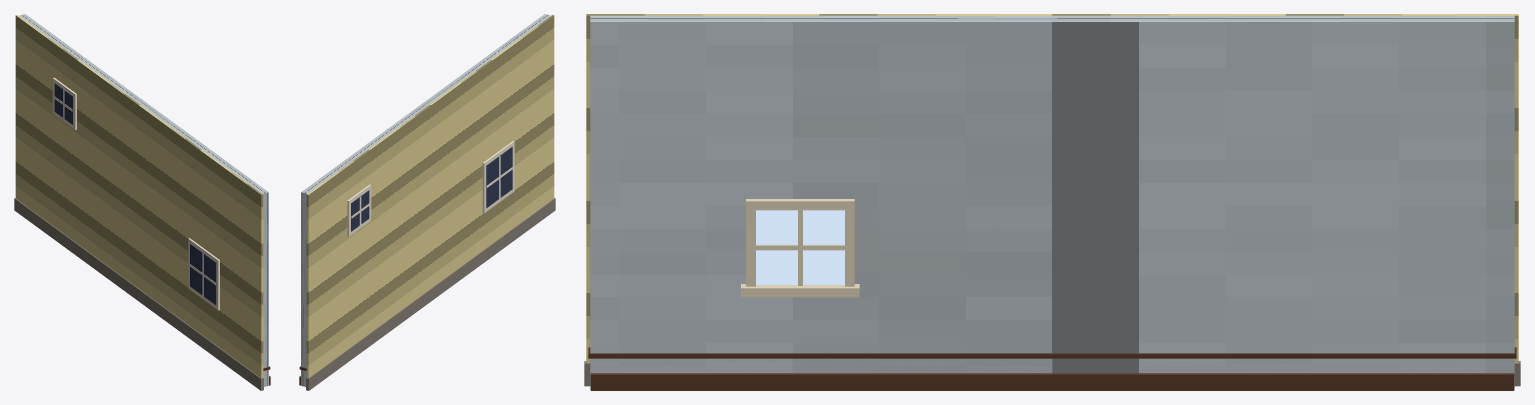
Rendered from right.glb.
3 views of the same model, side by side, from view 1: azimuth 30°, elevation 25°; view 2: azimuth 150°, elevation 25°; view 3: azimuth 270°, elevation 25° (orthographic). The views are drawn at different scales.
Visible parts, largest first — view 1: Box3, Box4, Box1, Box6, Box5, Box17, Box16; view 2: Box3, Box4, Box1, Box6, Box5, Box17, Box16; view 3: Box1, Box2, Box20, Box13, Box21, Box3, Box10, Box9.
Part boxes in pixels (x1,y1,x2,y2): Box3: (15,15,263,378); Box4: (14,198,263,390); Box1: (19,14,268,386); Box6: (190,244,216,304); Box5: (188,238,219,310); Box17: (54,83,72,124); Box16: (52,77,76,130); Box3: (306,15,554,378); Box4: (306,198,555,390); Box1: (301,14,550,386); Box6: (486,147,512,207); Box5: (482,141,514,213); Box17: (351,190,369,231); Box16: (347,184,371,236); Box1: (590,15,1514,388); Box2: (590,373,1514,390); Box20: (590,358,1514,386); Box13: (756,210,844,284); Box21: (588,347,1516,358); Box3: (586,14,1518,363); Box10: (741,284,859,297); Box9: (746,199,854,210).
Size of the model in its own units: 0.338 by 4.14 by 9.47.
8 materials, 2 textured.
